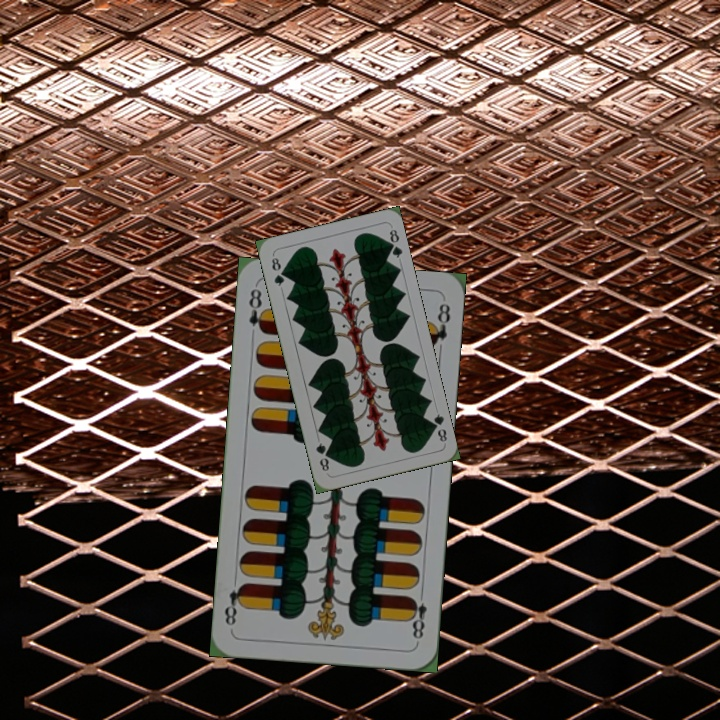E8: (405, 586, 429, 642), (244, 284, 269, 336)
G8: (426, 410, 450, 445), (267, 253, 288, 289)
